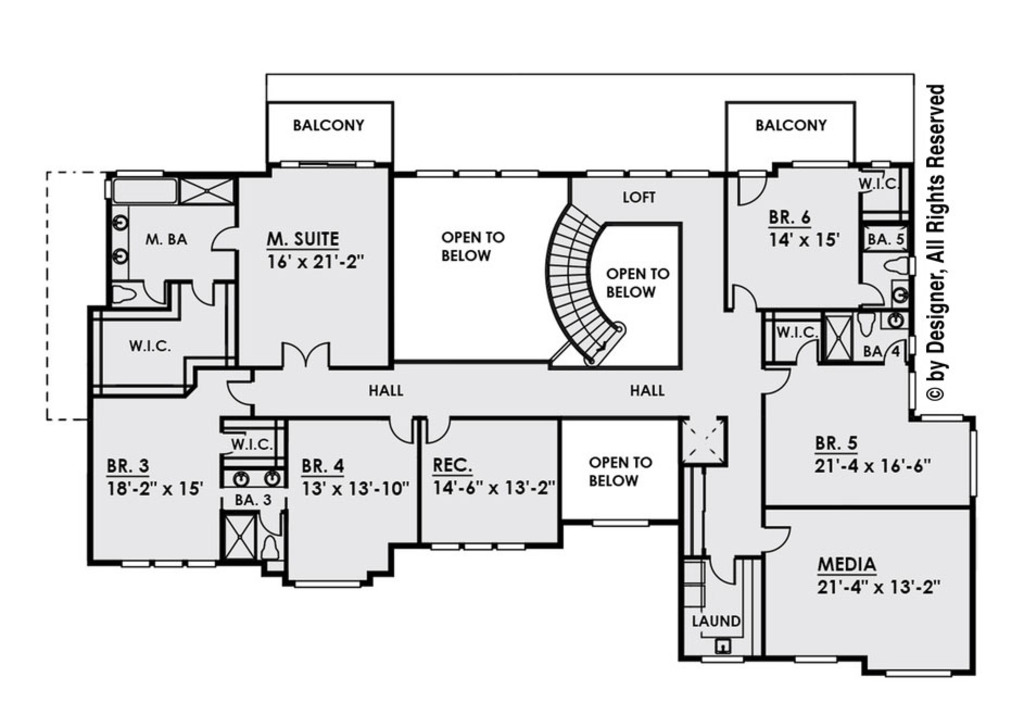door: (277, 338, 336, 372), (734, 173, 770, 208), (760, 363, 794, 399), (728, 279, 761, 315), (421, 416, 455, 449), (221, 379, 259, 407), (855, 279, 890, 307), (708, 553, 736, 587), (208, 226, 239, 254), (385, 415, 415, 443), (794, 338, 821, 368), (761, 524, 793, 549), (189, 278, 216, 307)
large_sink: (252, 532, 280, 565), (878, 252, 910, 277), (852, 311, 875, 339)
small_sink: (227, 468, 284, 487)
stairs: (539, 205, 625, 362)
windows: (582, 165, 713, 183), (414, 167, 541, 184), (112, 556, 227, 573), (427, 539, 529, 555), (289, 577, 365, 592), (880, 665, 959, 678), (787, 159, 852, 173), (588, 515, 656, 528), (791, 653, 846, 666)
